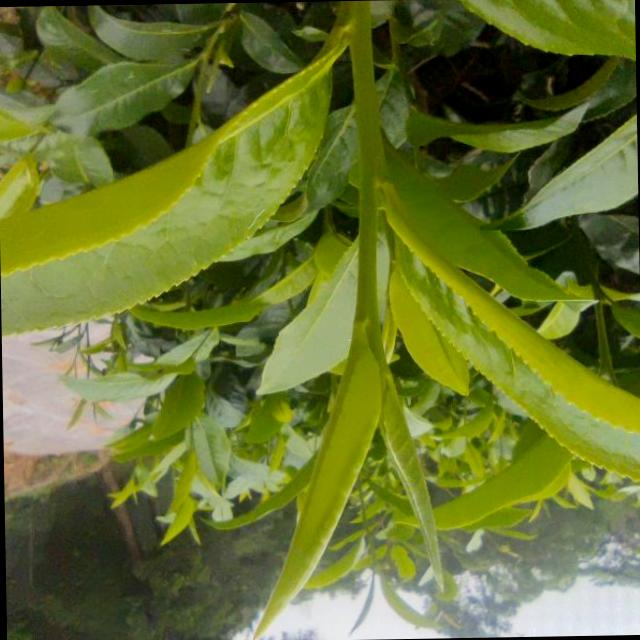Stem: (355, 298, 377, 321)
